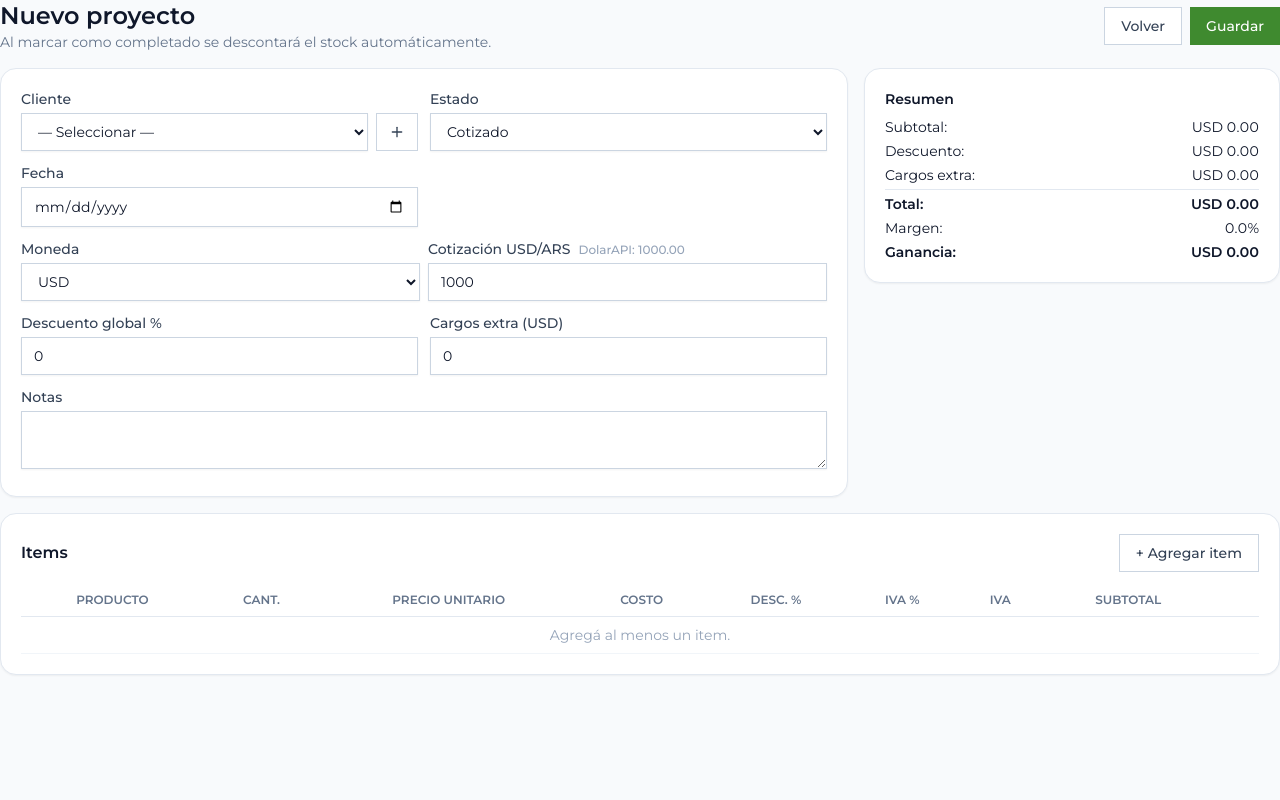
Scenario: ProjectFormPage › opens the client modal when the admin clicks the "+" button
Click the button named "crear cliente": (397, 132) [376, 113, 418, 151]
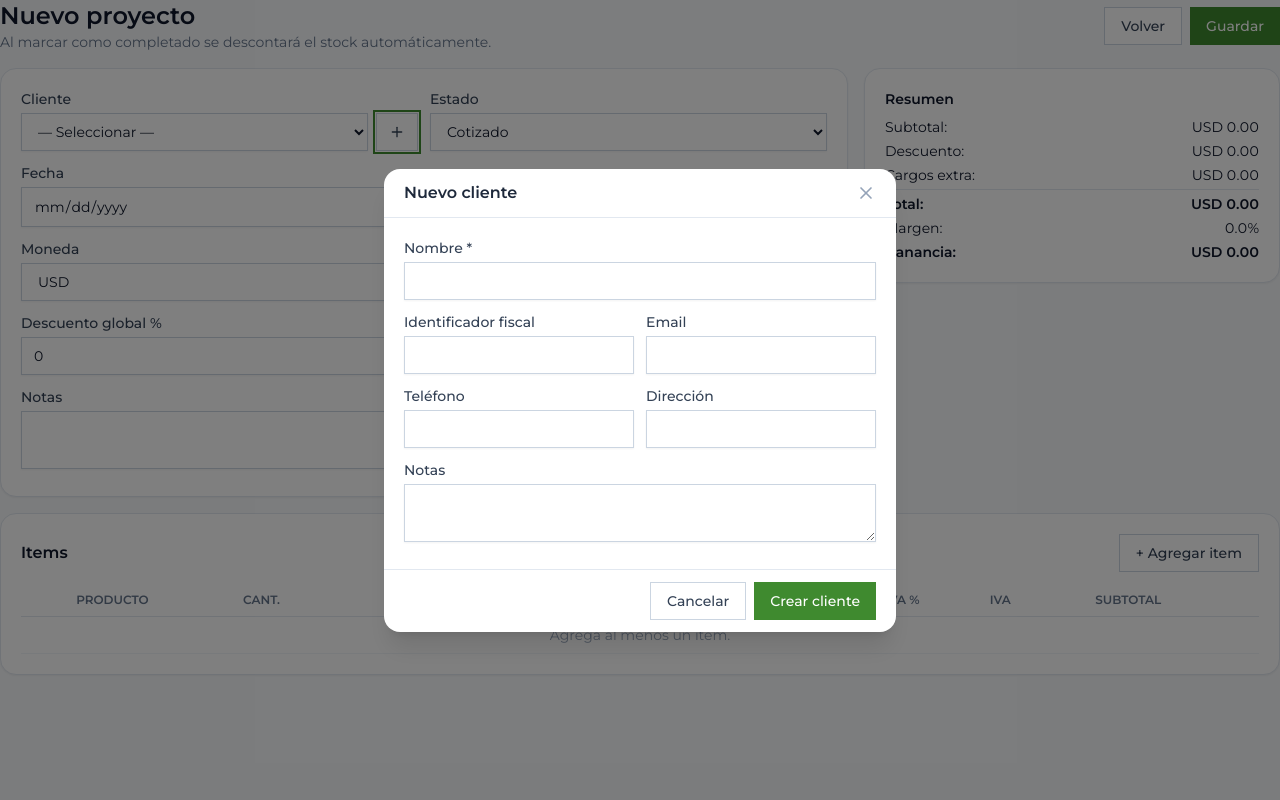
expect the heading "Nuevo cliente" is shown: met, box [404, 180, 517, 204]
expect the form with id "client-form" is shown: met, box [404, 238, 876, 548]
